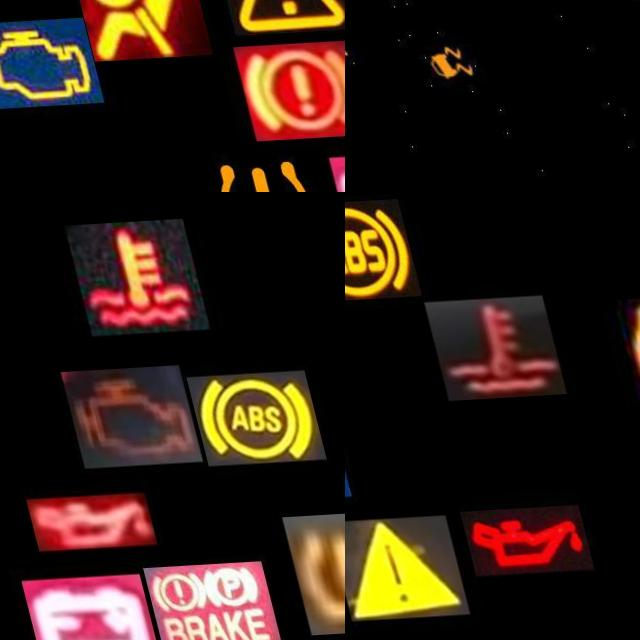Central Warning lamp: (345, 519, 442, 623), (196, 0, 335, 41)
Engine cooling system: (62, 222, 202, 338), (412, 301, 550, 406)
